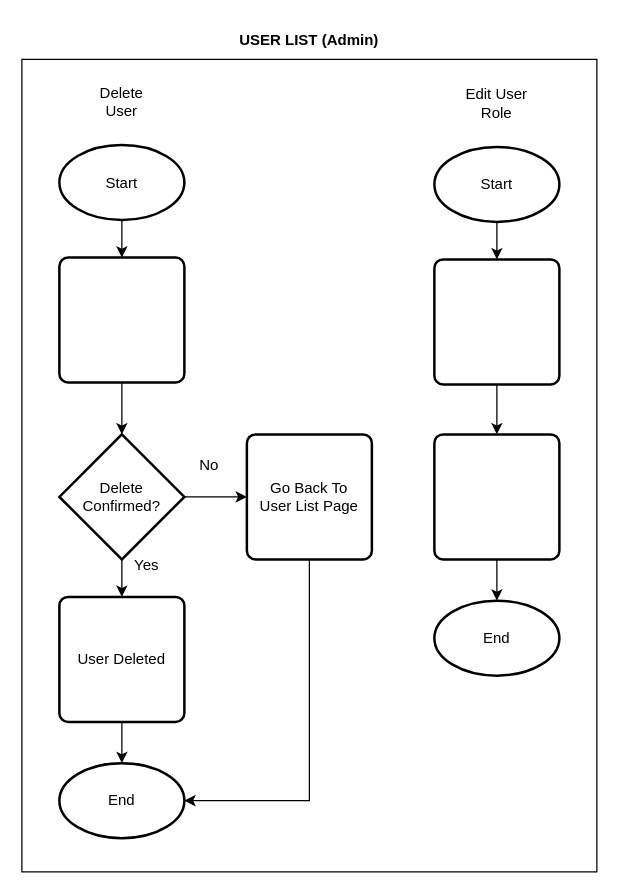
Image size: 619x894. Some labels were removed from this diagram. Each missing label, with the box of its shape:
Choose User: (58, 256, 185, 383)
Enter User's New Role: (432, 258, 560, 385)
User Updated: (432, 432, 560, 560)
